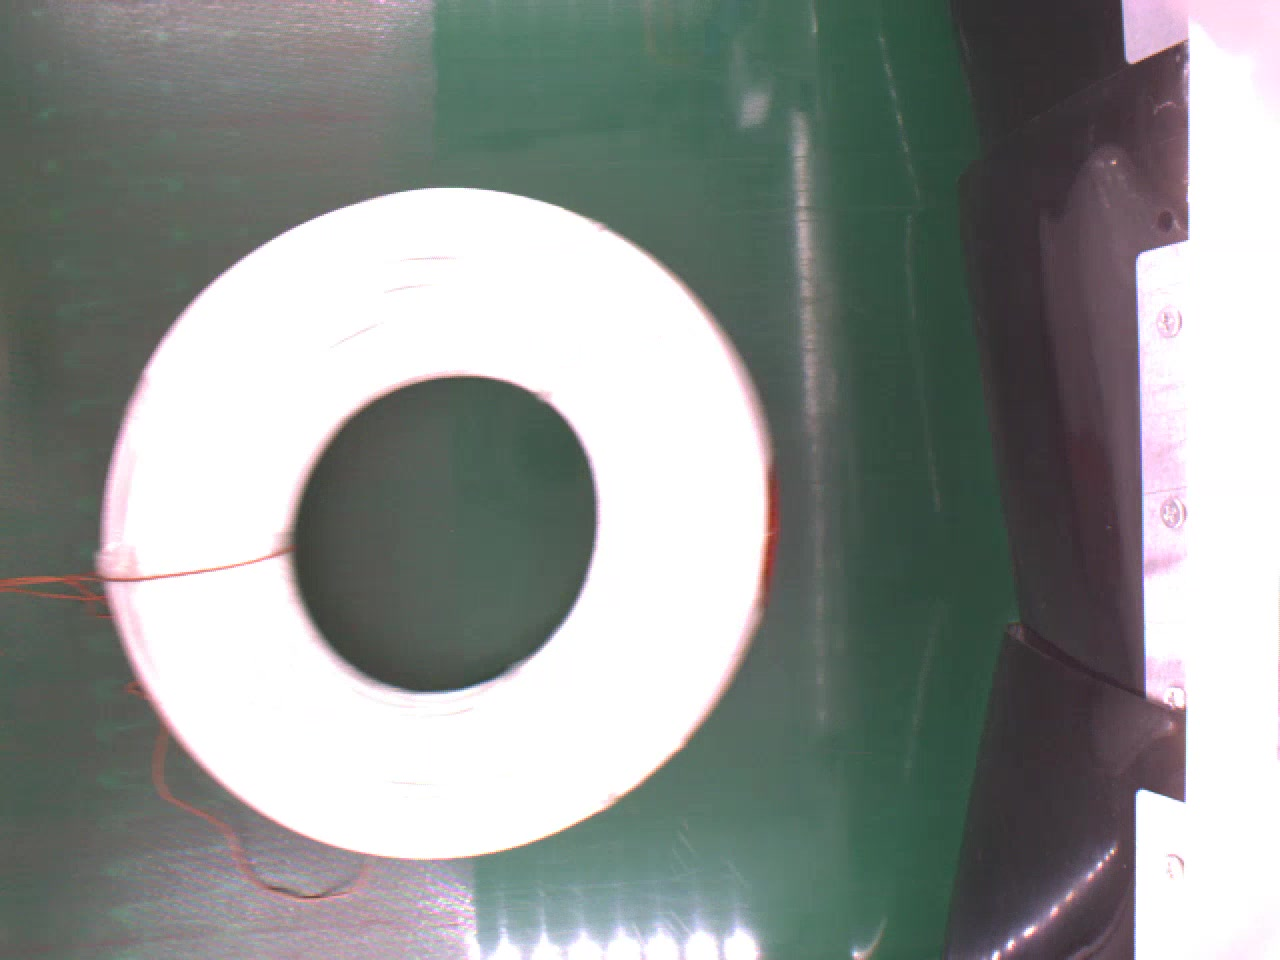white: (102, 184, 778, 866)
